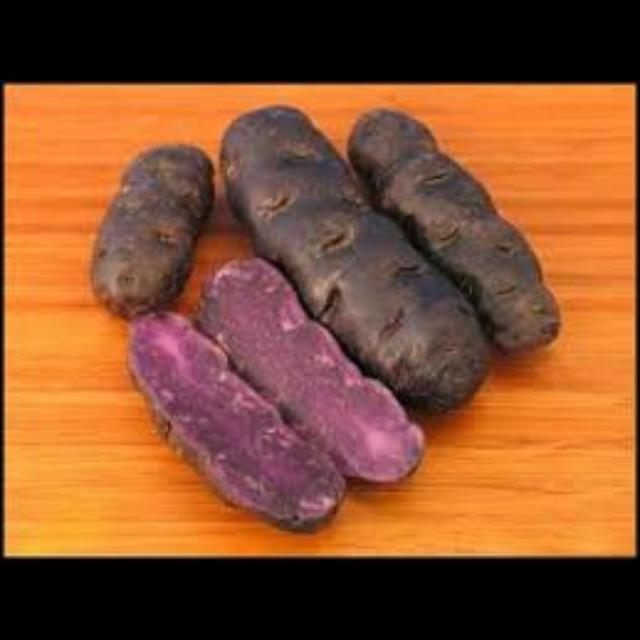Damaged potato: (213, 101, 492, 405), (339, 110, 563, 346), (85, 148, 211, 312)
